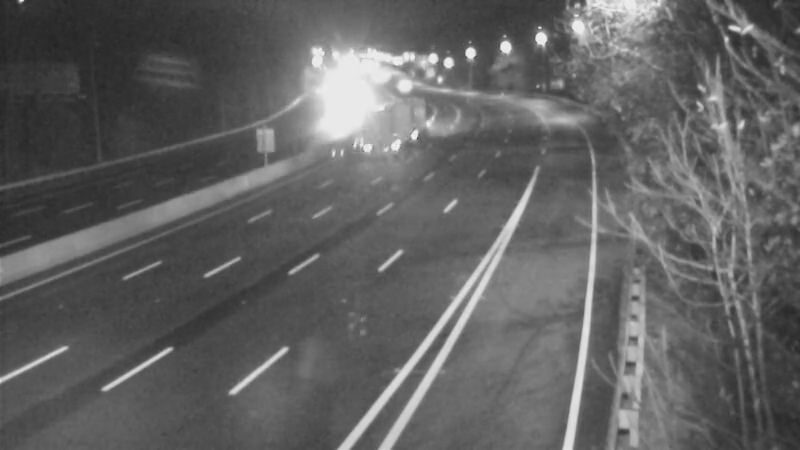vehicle: (381, 66, 431, 116), (363, 97, 413, 147), (310, 94, 360, 144)
